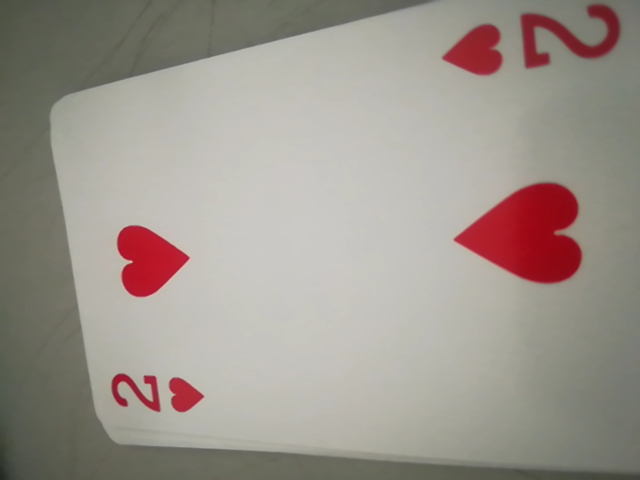hx 2: (438, 0, 635, 89)
